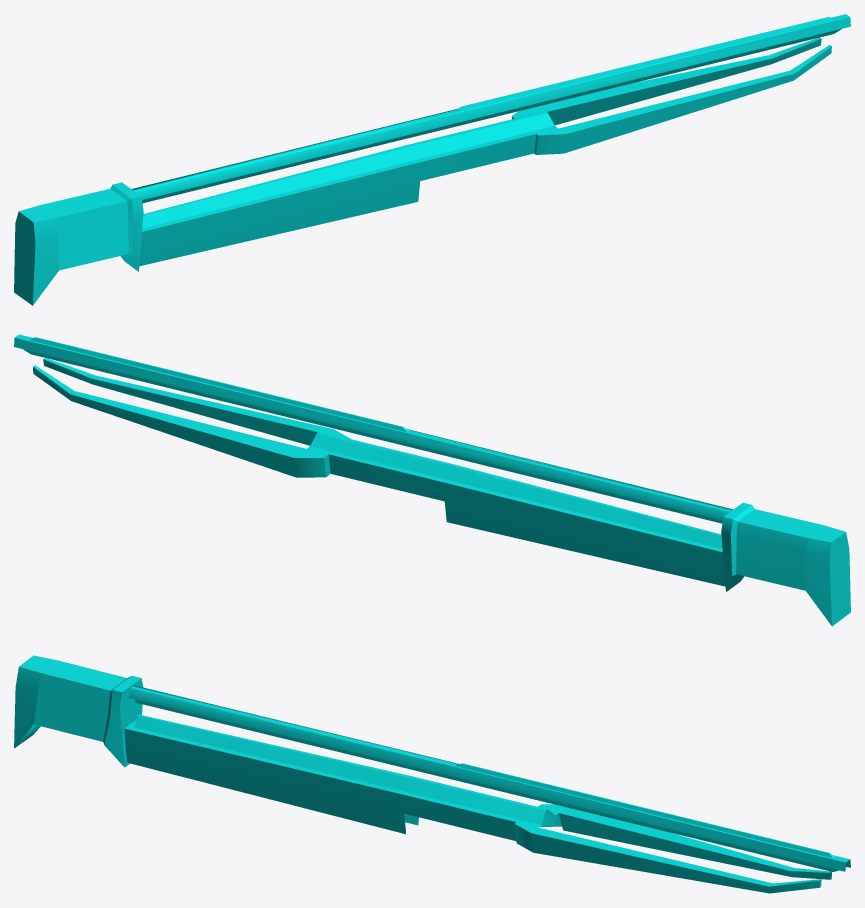
File: RailGuntest (1).fbx
3 views of the same model, one above another, from view 1: azimuth 30°, elevation 25°; view 2: azimuth 150°, elevation 25°; view 3: azimuth 330°, elevation 25° (orthographic).
Parts seen in each view (by area): view 1: RailGUn; view 2: RailGUn; view 3: RailGUn.
Part boxes in pixels (left/top/right/bottom): RailGUn: left=14, top=14, right=850, bottom=305; RailGUn: left=14, top=334, right=850, bottom=626; RailGUn: left=14, top=655, right=850, bottom=893.
Size of the model in its own units: 108 by 10.68 by 8.92.
